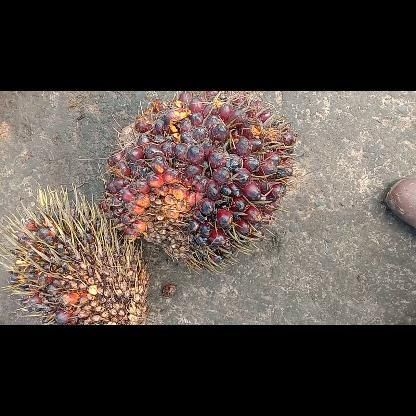Kurang masak: (100, 90, 300, 274)
TBS abnormal: (0, 183, 149, 325)
